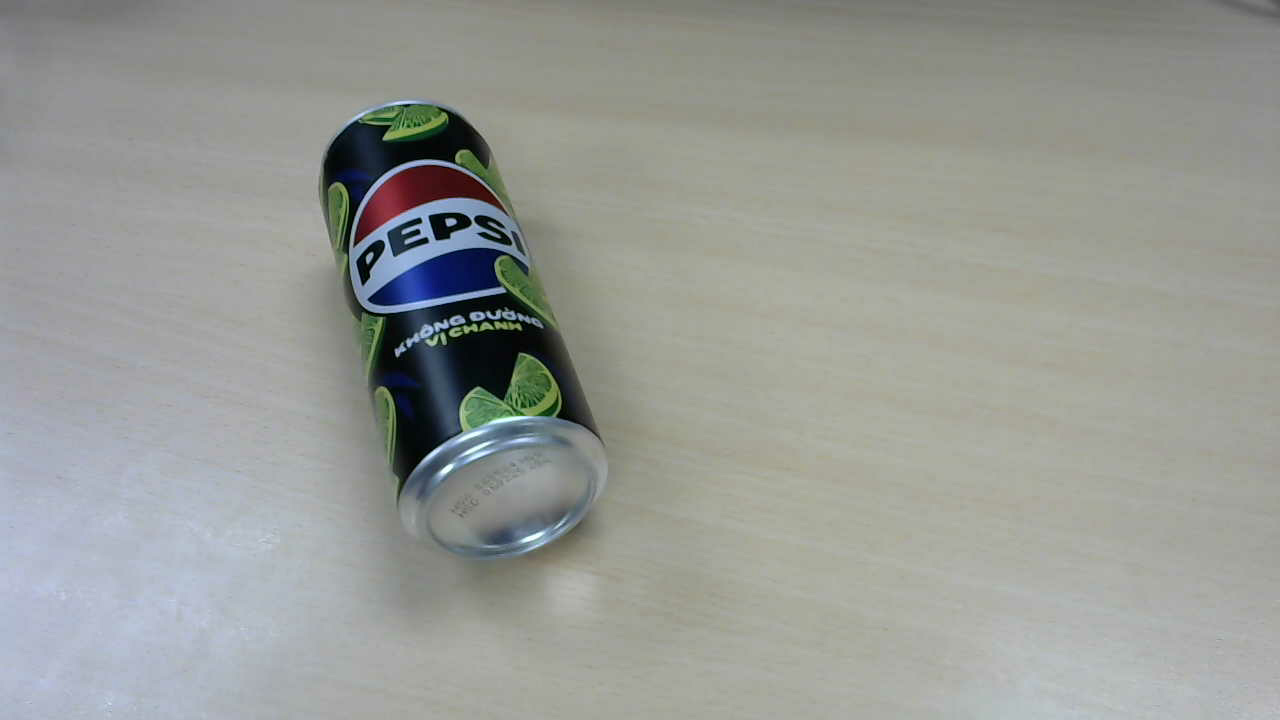Pepsi: (318, 106, 610, 563)
